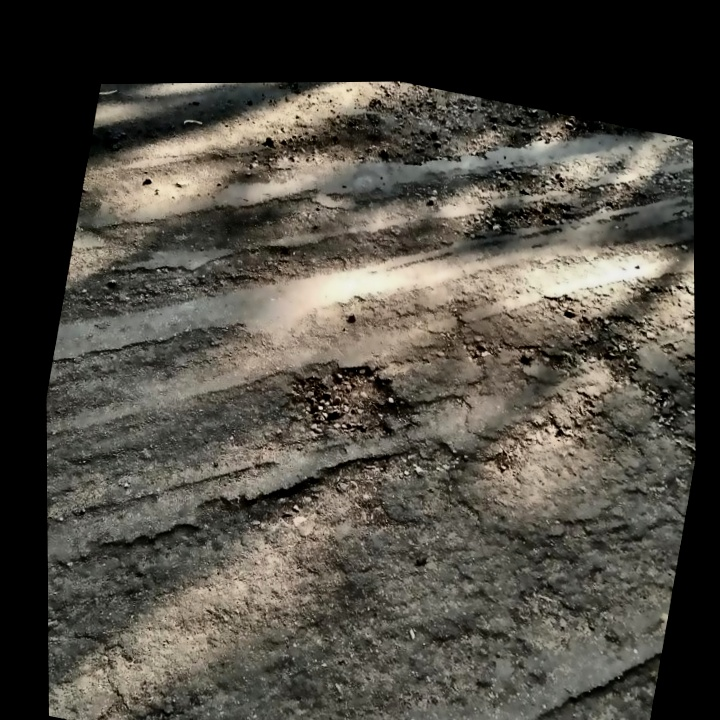pothole: (281, 346, 422, 449)
